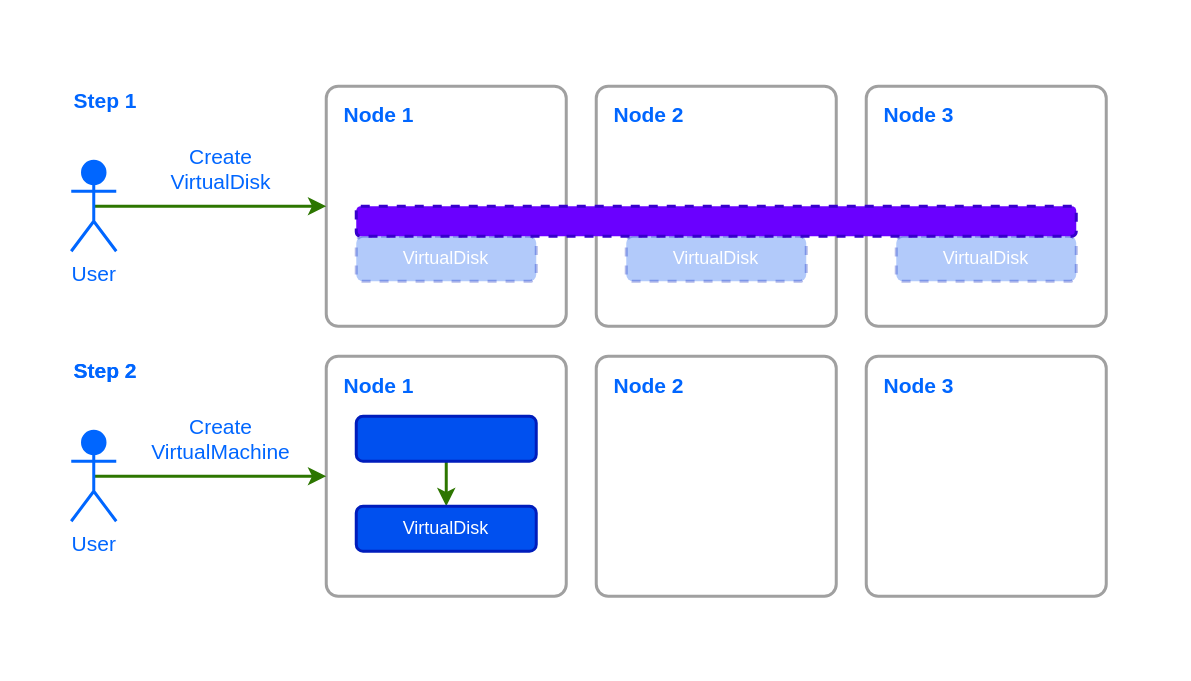
The diagram is 1191 pixels wide and 681 high, and some of its shapes have lost their labels. The box of each missing label's shape, as (x1, y1, x2, y2) in pixels:
VirtualMachine: (354, 414, 537, 462)
⏳ WaitForFirstConsumer: (354, 204, 1077, 237)
